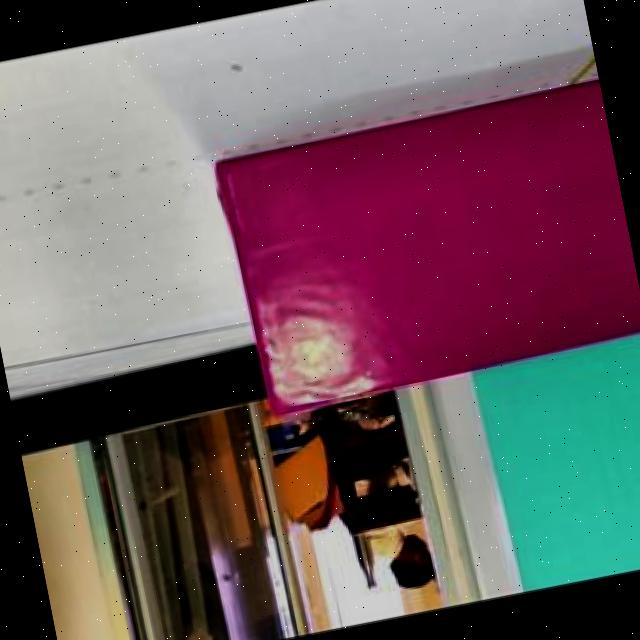xparking: (227, 87, 640, 400)
